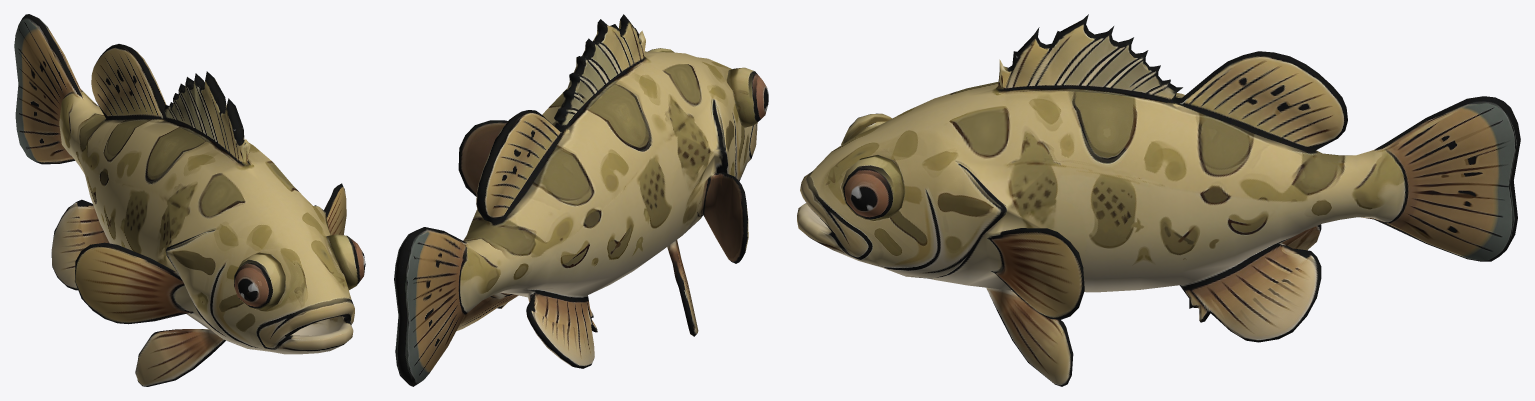
Rendered from Mandarin_fish_01.fbx.
The picture shows the model from 3 angles, left to right: view 1: azimuth 30°, elevation 25°; view 2: azimuth 150°, elevation 25°; view 3: azimuth 270°, elevation 25°; orthographic projection. The views are drawn at different scales.
Parts seen in each view (by area): view 1: Mandarin_fish_01; view 2: Mandarin_fish_01; view 3: Mandarin_fish_01.
Part boxes in pixels (bbox=[...]): Mandarin_fish_01: bbox=[14, 14, 365, 386]; Mandarin_fish_01: bbox=[394, 14, 768, 386]; Mandarin_fish_01: bbox=[797, 14, 1520, 386].
Bounding box in the file's own units: 49.41 × 50.2 × 99.8.
